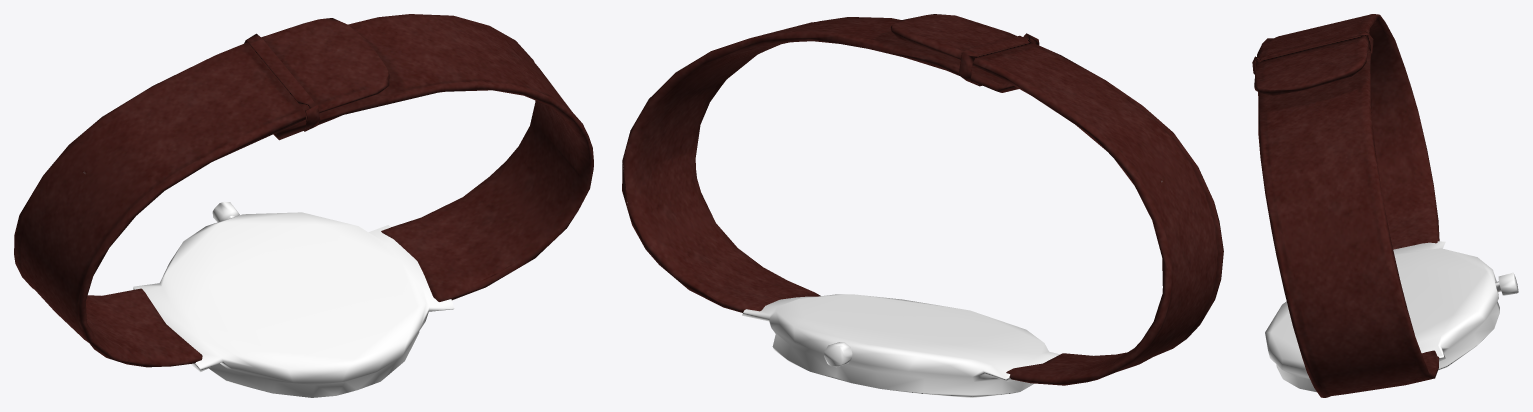
The model's file is MeshCylinder_289_0.obj.
3 views of the same model, side by side, from view 1: azimuth 30°, elevation 25°; view 2: azimuth 150°, elevation 25°; view 3: azimuth 270°, elevation 25° (orthographic). The views are drawn at different scales.
Visible parts, largest first — view 1: Cylinder_289; view 2: Cylinder_289; view 3: Cylinder_289.
Part boxes in pixels (box(x1,y1,x2,y2)): Cylinder_289: box(14, 14, 593, 397); Cylinder_289: box(622, 14, 1223, 397); Cylinder_289: box(1252, 14, 1518, 397).
Size of the model in its own units: 0.0771 by 0.0471 by 0.0363.
1 material, 1 textured.
